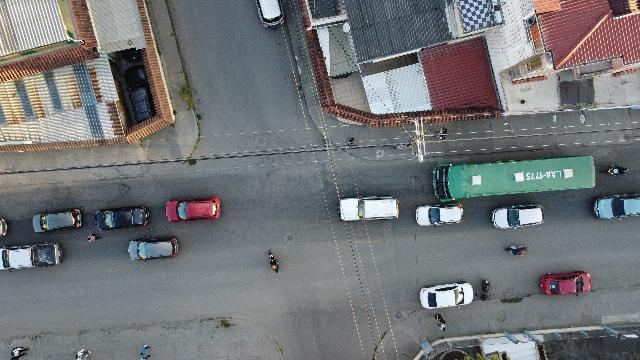Vehiculo: (0, 243, 62, 271), (339, 195, 399, 220), (421, 282, 474, 308), (166, 198, 220, 222), (95, 206, 149, 230), (492, 204, 544, 228), (540, 271, 592, 295), (129, 238, 179, 262), (32, 208, 82, 232), (593, 193, 639, 219), (415, 203, 463, 227), (256, 0, 284, 28), (1, 218, 8, 238)
